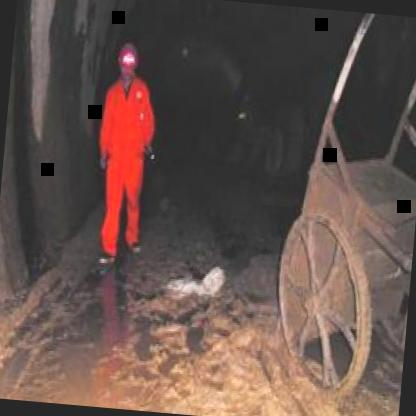helmet: (113, 38, 142, 86)
